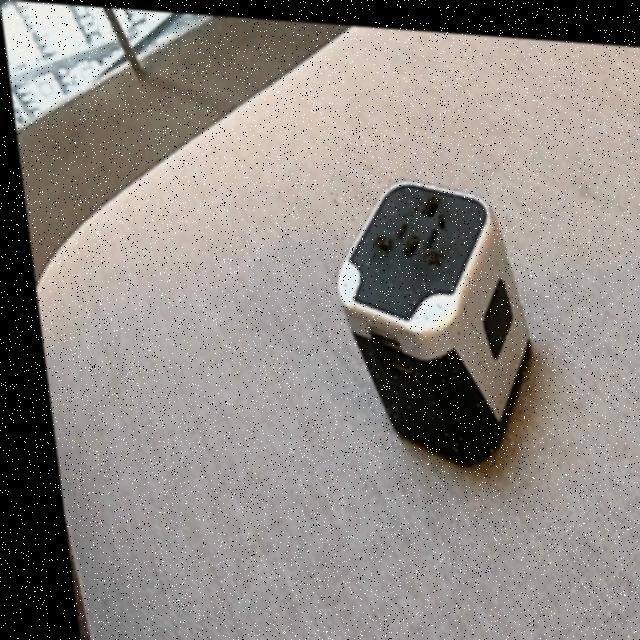adapter: (317, 167, 535, 464)
